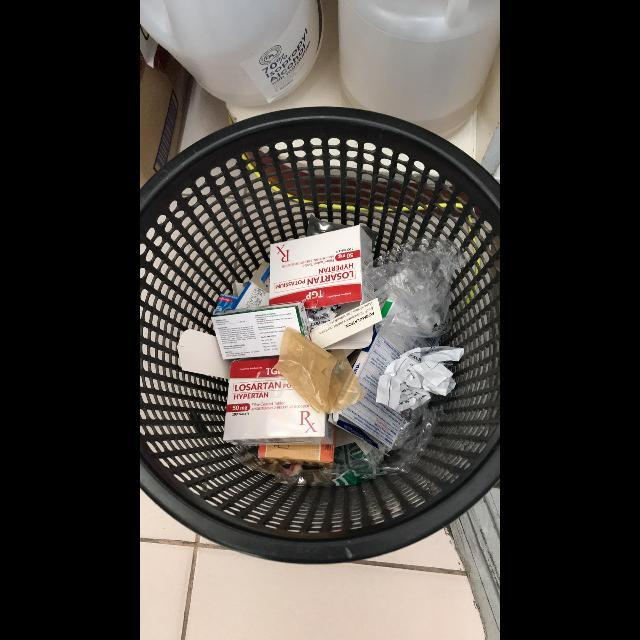paper: (269, 225, 382, 349), (328, 335, 437, 449), (223, 358, 334, 446), (211, 301, 311, 360), (376, 346, 464, 413), (215, 262, 270, 314), (258, 444, 334, 466)
wrapper: (306, 305, 341, 328)
